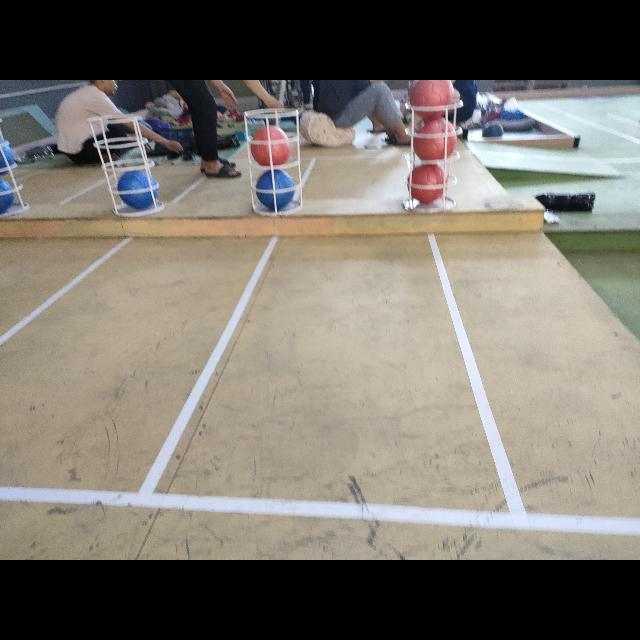B: (119, 170, 158, 212), (256, 171, 294, 211), (0, 138, 18, 176), (1, 178, 16, 212)
R: (413, 118, 455, 162), (248, 126, 292, 166), (408, 80, 454, 118), (407, 162, 447, 204)
